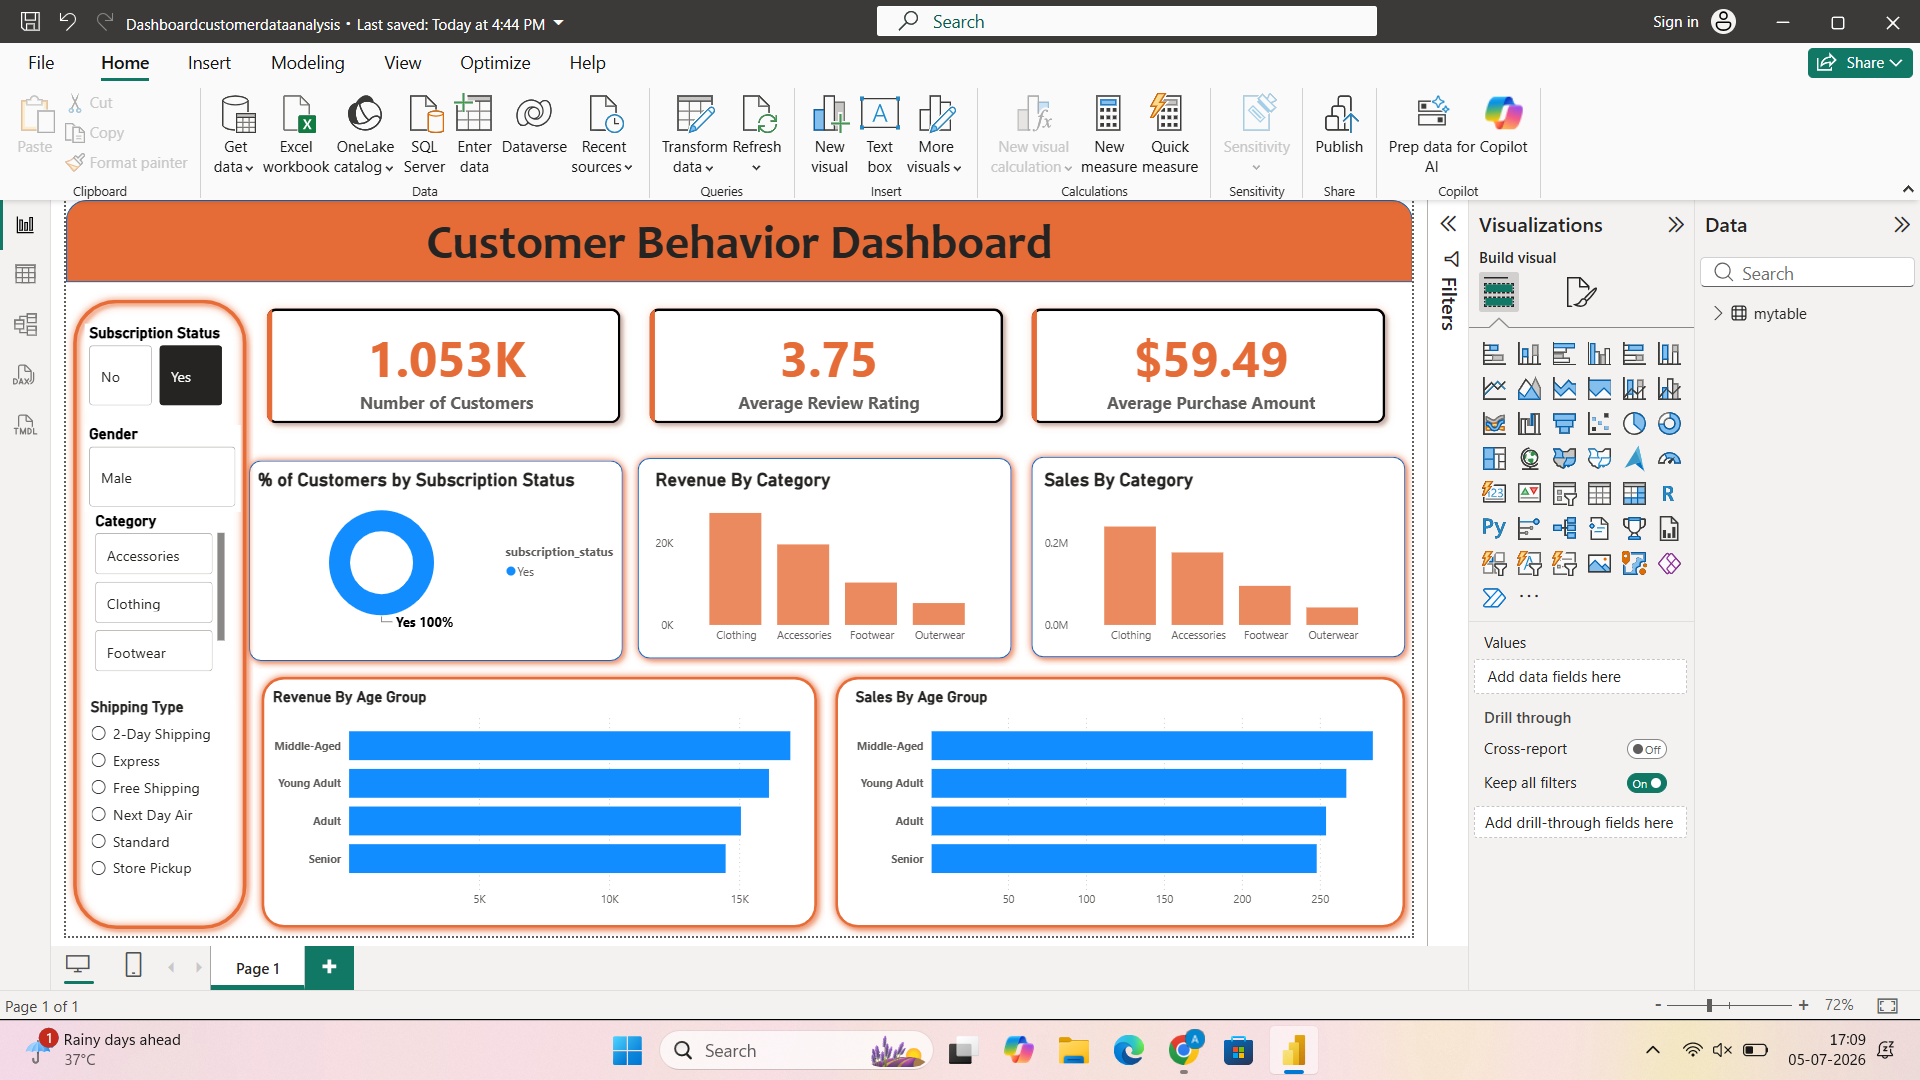

This screenshot's page, from the dashboard's own definition file:
{"tool":"powerbi","page":{"name":"Page 1","canvas":[1500,820],"ordinal":0},"visuals":[{"type":"cardVisual","fields":{"Data":["mytable.Number of Customers","mytable.Average Review Rating","mytable.Average Purchase Amount"]},"box":[194.6,91.7,1305.8,186.5],"z":0},{"type":"shape","box":[0,0,1500.3,91.7],"z":1000},{"type":"textbox","box":[0,9.6,1500.3,75.6],"z":2000},{"type":"shape","box":[628.8,278.2,434.2,241.2],"z":3000},{"type":"shape","box":[1066.1,276.6,434.2,241.2],"z":4000},{"type":"shape","box":[194.6,281.4,434.2,241.2],"z":5000},{"type":"group","id":"g1","title":"Group 1","box":[209,299.1,419.7,186.5],"z":6000},{"type":"donutChart","title":"% of Customers by Subscription Status","fields":{"Category":["mytable.subscription_status"],"Y":["Sum(mytable.customer_id)"]},"box":[209,299.1,419.7,186.5],"z":7000,"group":"g1"},{"type":"clusteredColumnChart","title":"Revenue By Category","fields":{"Y":["Sum(mytable.purchase_amount_usd)"],"Category":["mytable.category"]},"box":[651.3,299.1,387.5,204.2],"z":7000},{"type":"clusteredColumnChart","title":"Sales  By Category","fields":{"Y":["Sum(mytable.customer_id)"],"Category":["mytable.category"]},"box":[1085.4,299.1,392.4,204.2],"z":8000},{"type":"shape","box":[0,102.9,209,717.2],"z":9000},{"type":"advancedSlicerVisual","title":"Subscription Status","fields":{"Values":["mytable.subscription_status"]},"box":[20.9,138.3,159.2,96.5],"z":10000},{"type":"advancedSlicerVisual","title":"Gender","fields":{"Values":["mytable.gender"]},"box":[20.9,250.9,173.7,96.5],"z":11000},{"type":"advancedSlicerVisual","title":"Category","fields":{"Values":["mytable.category"]},"box":[27.3,347.3,154.4,184.9],"z":12000},{"type":"listSlicer","title":"Shipping Type","fields":{"Values":["mytable.shipping_type"]},"box":[22.5,554.8,165.6,223.5],"z":13000},{"type":"shape","box":[209,522.6,636.8,297.5],"z":14000},{"type":"clusteredBarChart","title":"Revenue By Age Group","fields":{"Y":["Sum(mytable.purchase_amount_usd)"],"Category":["mytable.age_group"]},"box":[225.1,543.5,596.6,254.1],"z":15000},{"type":"shape","box":[847.5,522.6,652.9,297.5],"z":16000},{"type":"clusteredBarChart","title":"Sales By Age Group","fields":{"Y":["CountNonNull(mytable.customer_id)"],"Category":["mytable.age_group"]},"box":[874.8,543.5,596.6,254.1],"z":16001}]}

Visuals, with their boxes on the page's 1500x820 design canvas (x1, y1, x2, y2). These are canvas units, not pixel positions in the 1920x1080 screenshot, which may show the page scaled, cropped or inside an application window:
cardVisual - mytable.Number of Customers x mytable.Average Review Rating: [195, 92, 1500, 278]
shape: [0, 0, 1500, 92]
textbox: [0, 10, 1500, 85]
shape: [629, 278, 1063, 519]
shape: [1066, 277, 1500, 518]
shape: [195, 281, 629, 523]
"Group 1" group: [209, 299, 629, 486]
"% of Customers by Subscription Status" donutChart: [209, 299, 629, 486]
"Revenue By Category" clusteredColumnChart: [651, 299, 1039, 503]
"Sales  By Category" clusteredColumnChart: [1085, 299, 1478, 503]
shape: [0, 103, 209, 820]
"Subscription Status" advancedSlicerVisual: [21, 138, 180, 235]
"Gender" advancedSlicerVisual: [21, 251, 195, 347]
"Category" advancedSlicerVisual: [27, 347, 182, 532]
"Shipping Type" listSlicer: [22, 555, 188, 778]
shape: [209, 523, 846, 820]
"Revenue By Age Group" clusteredBarChart: [225, 544, 822, 798]
shape: [848, 523, 1500, 820]
"Sales By Age Group" clusteredBarChart: [875, 544, 1471, 798]
